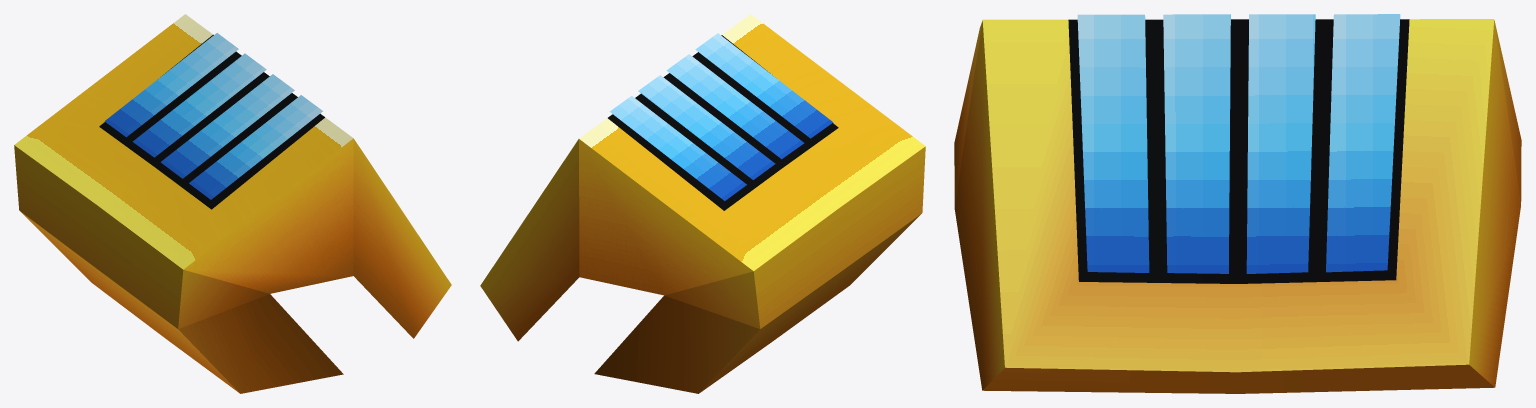
Rendered from Starterpack_Power1.glb.
The picture shows the model from 3 angles, left to right: view 1: azimuth 30°, elevation 25°; view 2: azimuth 150°, elevation 25°; view 3: azimuth 270°, elevation 25°; orthographic projection. The views are drawn at different scales.
Parts seen in each view (by area): view 1: Starterpack_Power1; view 2: Starterpack_Power1; view 3: Starterpack_Power1.
Boxes of the visible parts, <box> form: Starterpack_Power1: <box>14,14,451,393</box>; Starterpack_Power1: <box>480,14,925,393</box>; Starterpack_Power1: <box>954,14,1521,393</box>.
Size of the model in its own units: 1.29 by 1.06 by 1.5.
Materials: 1 (1 with a texture image).
